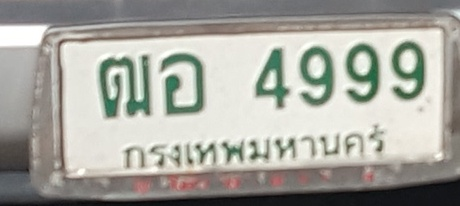txt13: (94, 52, 156, 120)
txt38: (159, 51, 206, 116)
